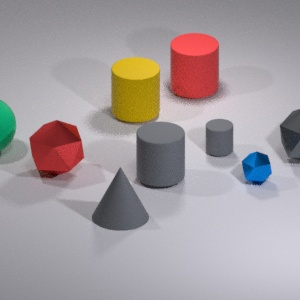lucgiac: (24, 121, 87, 179), (274, 102, 300, 163), (240, 151, 276, 189)
non: (87, 165, 152, 239)
tron: (0, 98, 17, 159)
tru: (165, 28, 226, 102), (131, 119, 189, 194), (99, 54, 161, 124), (203, 120, 238, 161)
